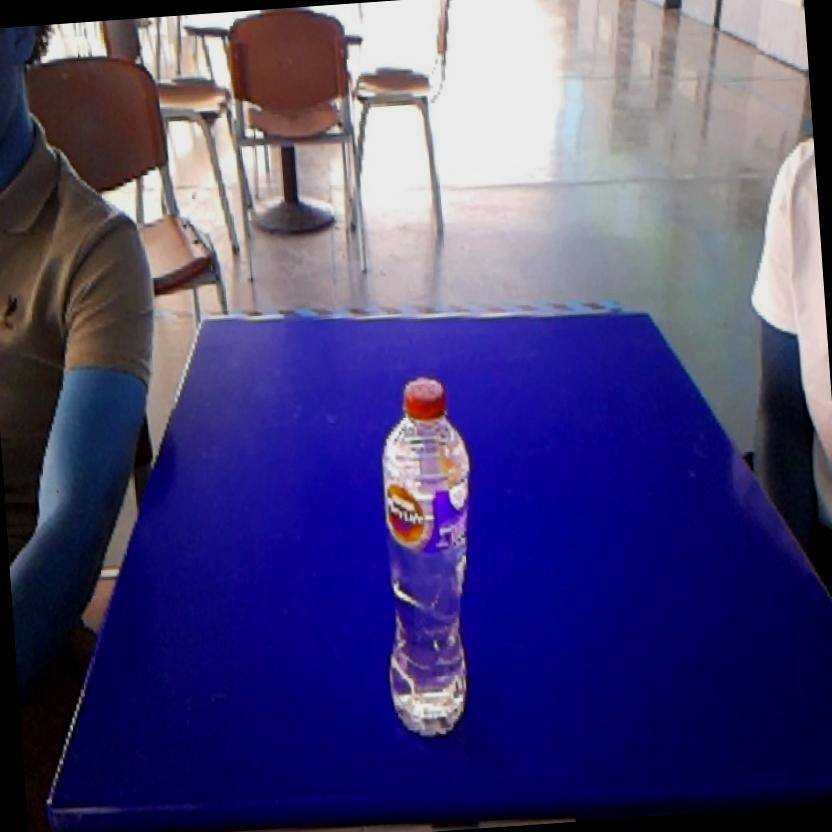good: (362, 361, 495, 750)
